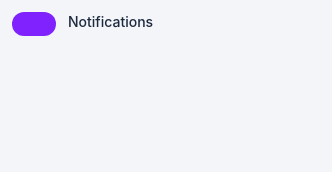
Switch › toggles its uncontrolled state and reports the new value
The width and height of the screenshot is (332, 172).
Click the switch named "Notifications": click(34, 24) [12, 12, 56, 36]
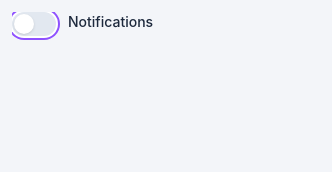
Now the switch named "Notifications" is not checked, box [12, 12, 56, 36]
